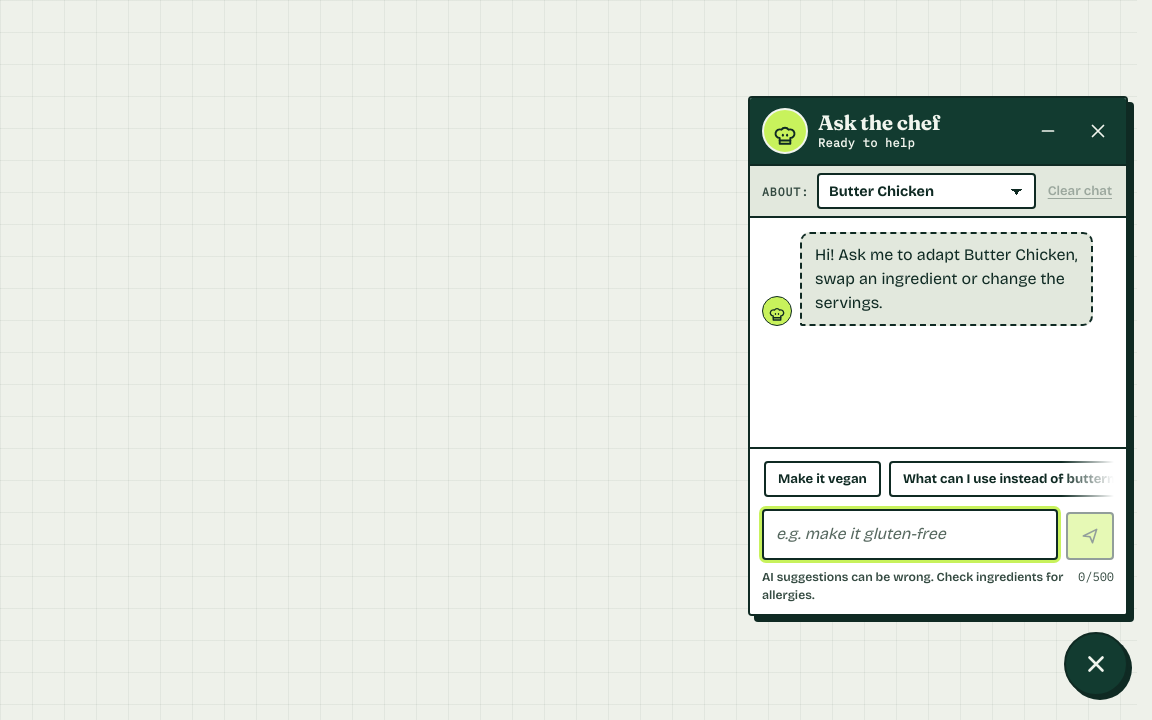
Test: ChatPanel › reports when offline
In the text box named "Message the chef": (910, 534) [762,509,1058,560], type "hello"
Then press Enter
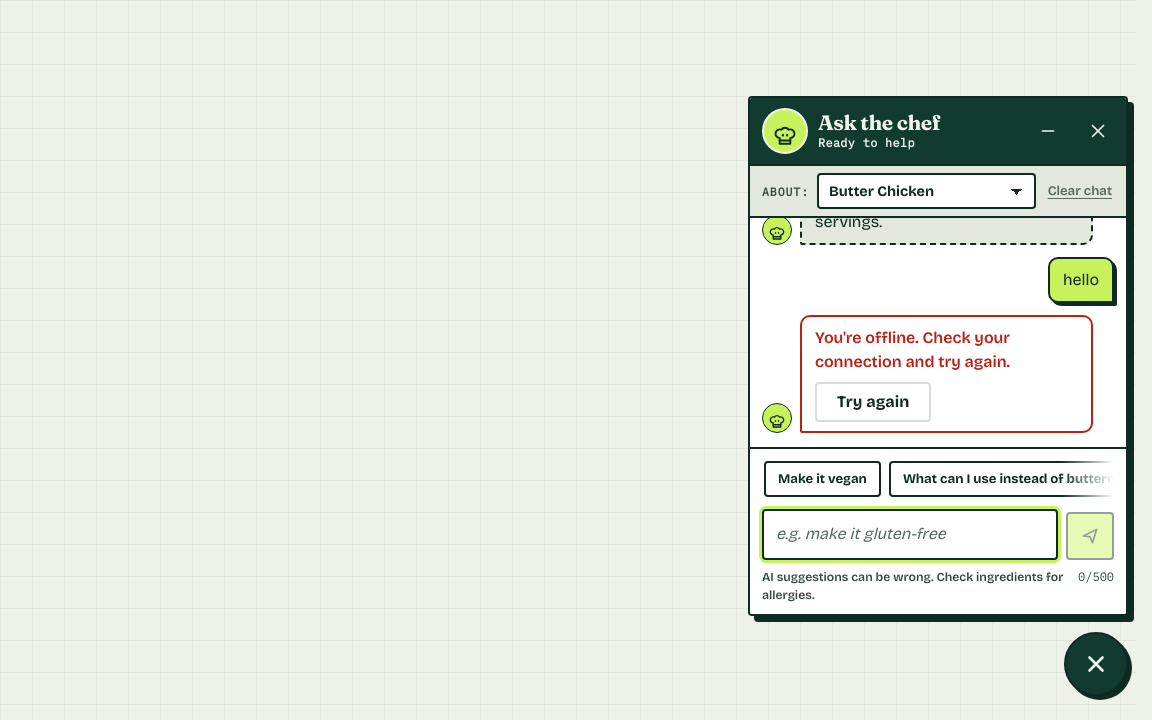
Check: the message shows "You're offline", box [815,328,1010,371]
